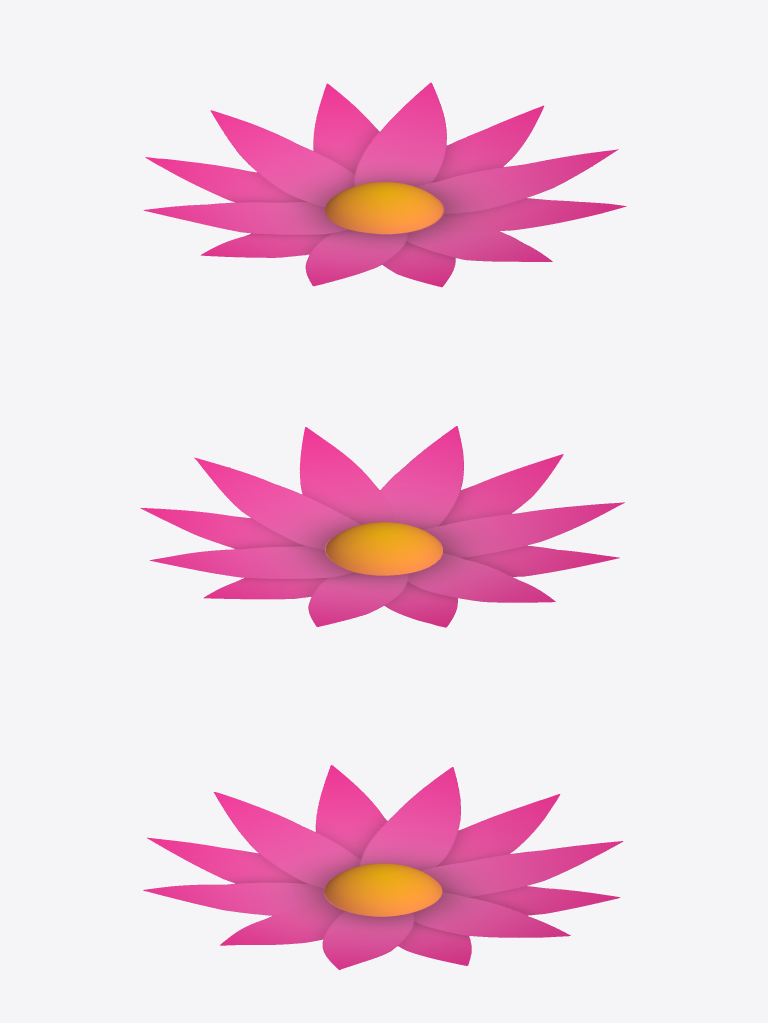
Rendered from flower.fbx.
3 views of the same model, one above another, from view 1: azimuth 30°, elevation 25°; view 2: azimuth 150°, elevation 25°; view 3: azimuth 270°, elevation 25° (orthographic).
Visible parts, largest first — view 1: Plane, Sphere; view 2: Plane, Sphere; view 3: Plane, Sphere.
Boxes of the visible parts, box(x1,y1,x2,y2) form: Plane: box(143, 82, 626, 287); Sphere: box(325, 182, 443, 234); Plane: box(140, 426, 624, 627); Sphere: box(326, 522, 442, 575); Plane: box(143, 765, 623, 969); Sphere: box(324, 863, 442, 916).
Size of the model in its own units: 1.92 by 0.1138 by 1.92.
